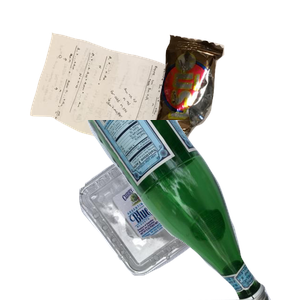glass: (75, 120, 300, 300)
paper: (27, 30, 203, 178)
plastic: (77, 133, 289, 300)
trash: (150, 32, 300, 172)
